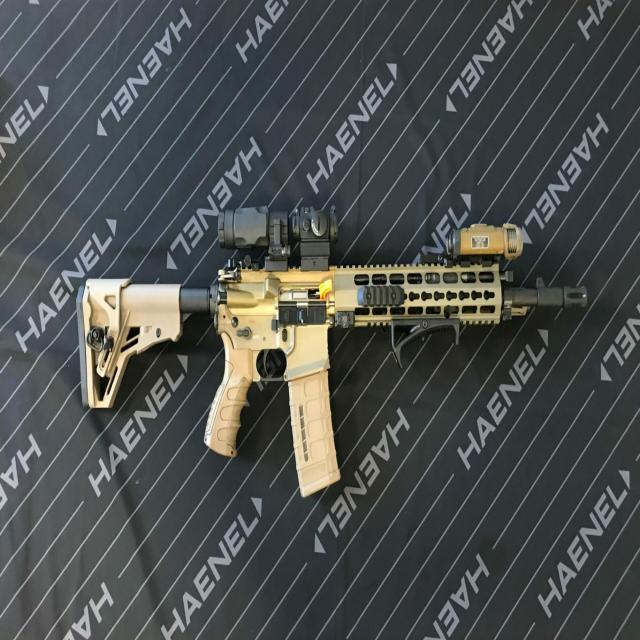Rifle: (81, 217, 569, 498)
